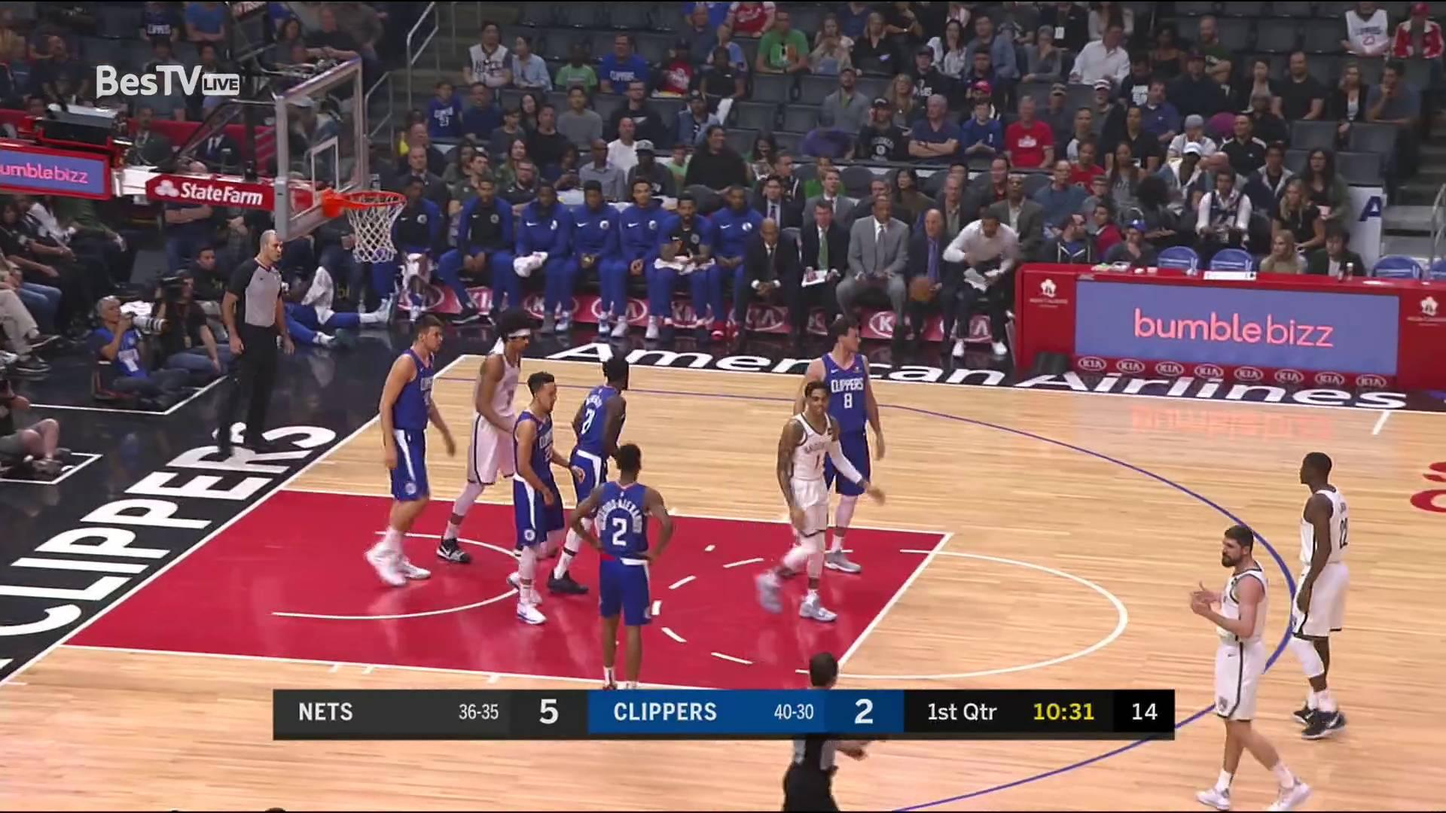basketball: (908, 272, 936, 305)
